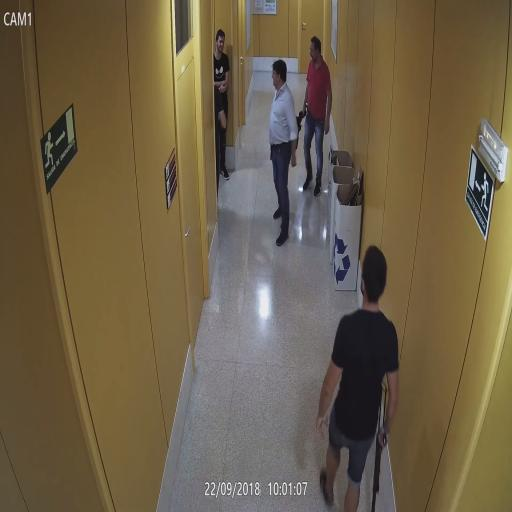Handgun: (269, 138, 273, 160), (304, 105, 309, 118)
